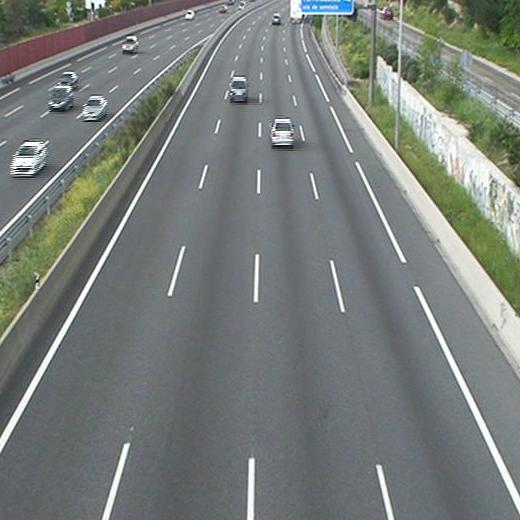car: (271, 119, 295, 145), (229, 77, 248, 100), (271, 14, 282, 25)
truck: (290, 1, 303, 23)
